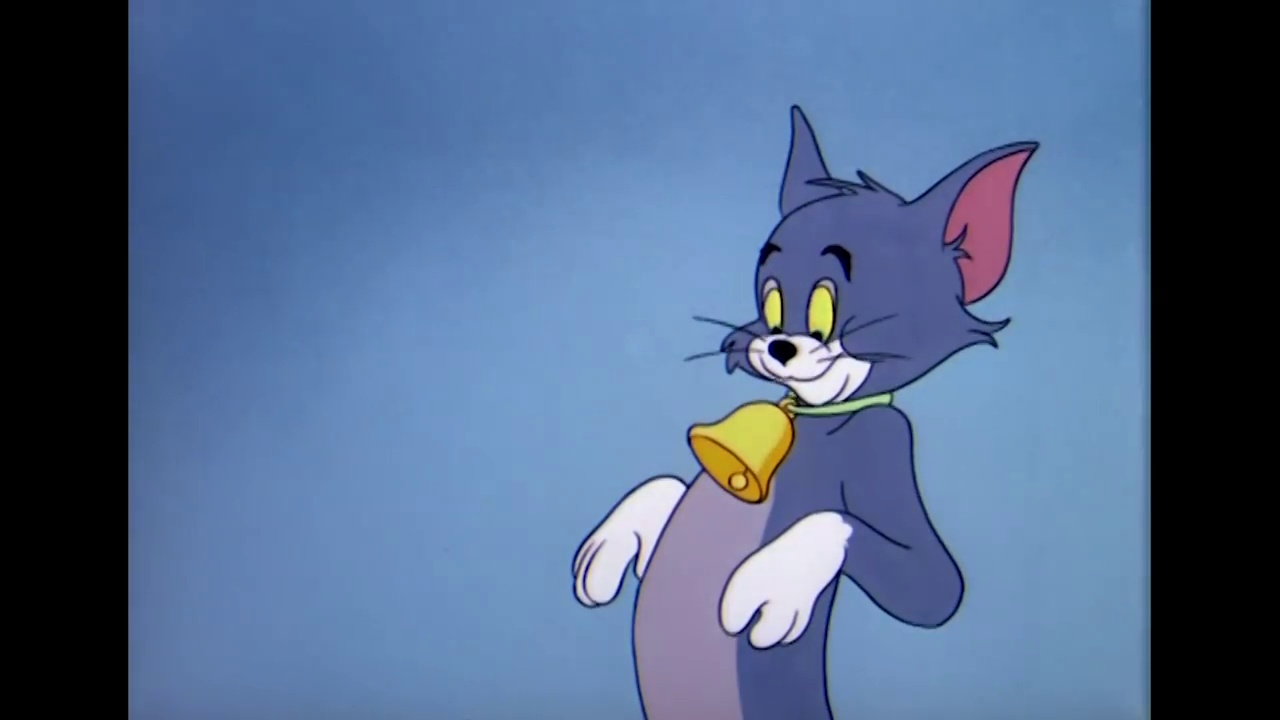tom: (708, 103, 1047, 400)
